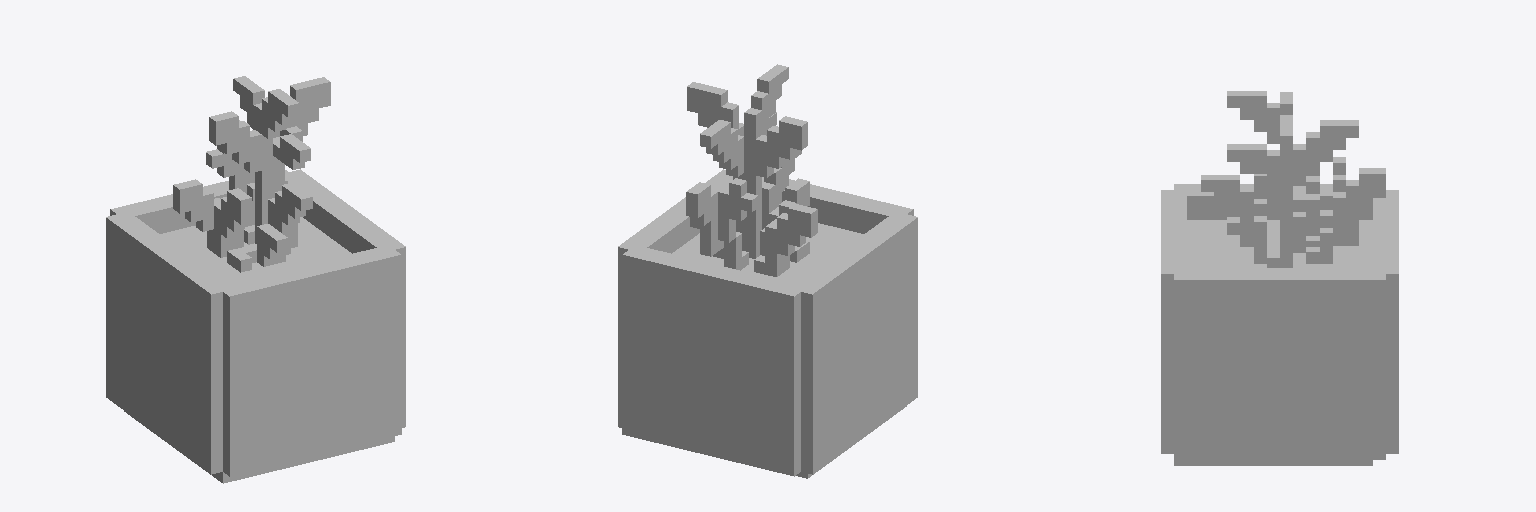
File: pot de plante mais morte.obj
The picture shows the model from 3 angles: view 1: azimuth 30°, elevation 25°; view 2: azimuth 150°, elevation 25°; view 3: azimuth 270°, elevation 25°; orthographic projection.
Visible parts, largest first — view 1: object 1; view 2: object 1; view 3: object 1.
Part boxes in pixels (left/top/right/bottom): object 1: left=106, top=76, right=405, bottom=483; object 1: left=618, top=64, right=917, bottom=478; object 1: left=1161, top=91, right=1398, bottom=465.
Bounding box in the file's own units: 1.7 × 2.8 × 1.8.